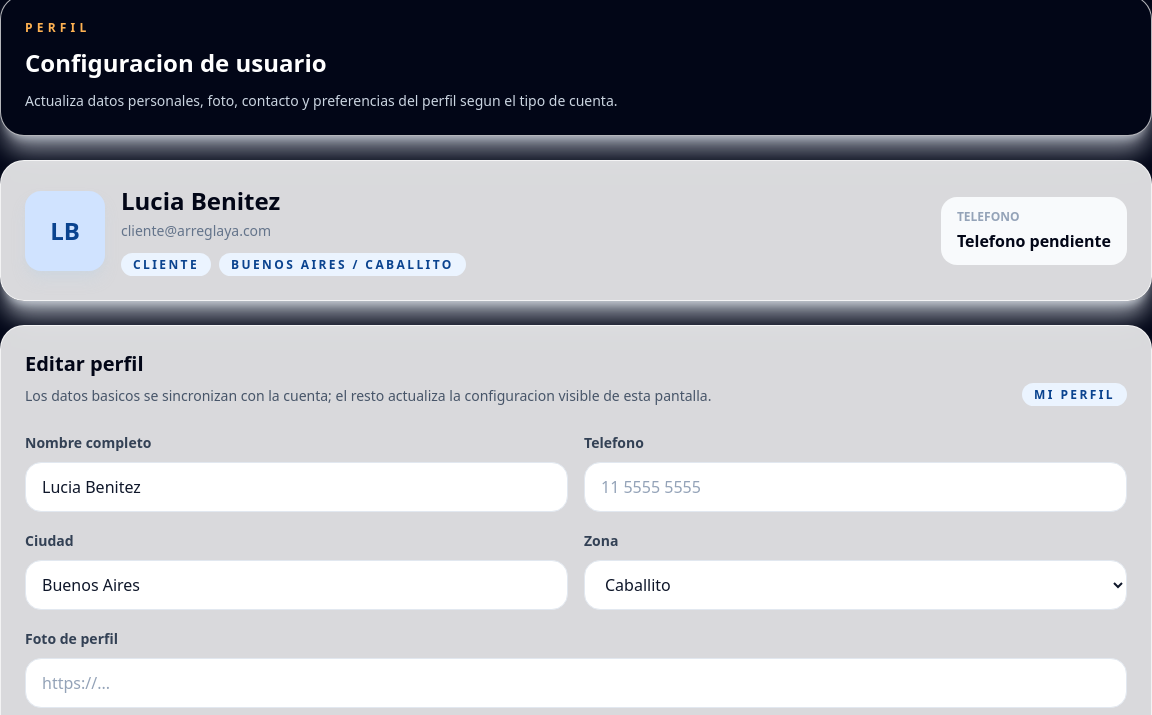
Test: ProfilePage › muestra validaciones cuando faltan campos obligatorios
Clear the field labelled "Nombre completo". click: (296, 487)
box: x1=25 y1=462 x2=568 y2=512
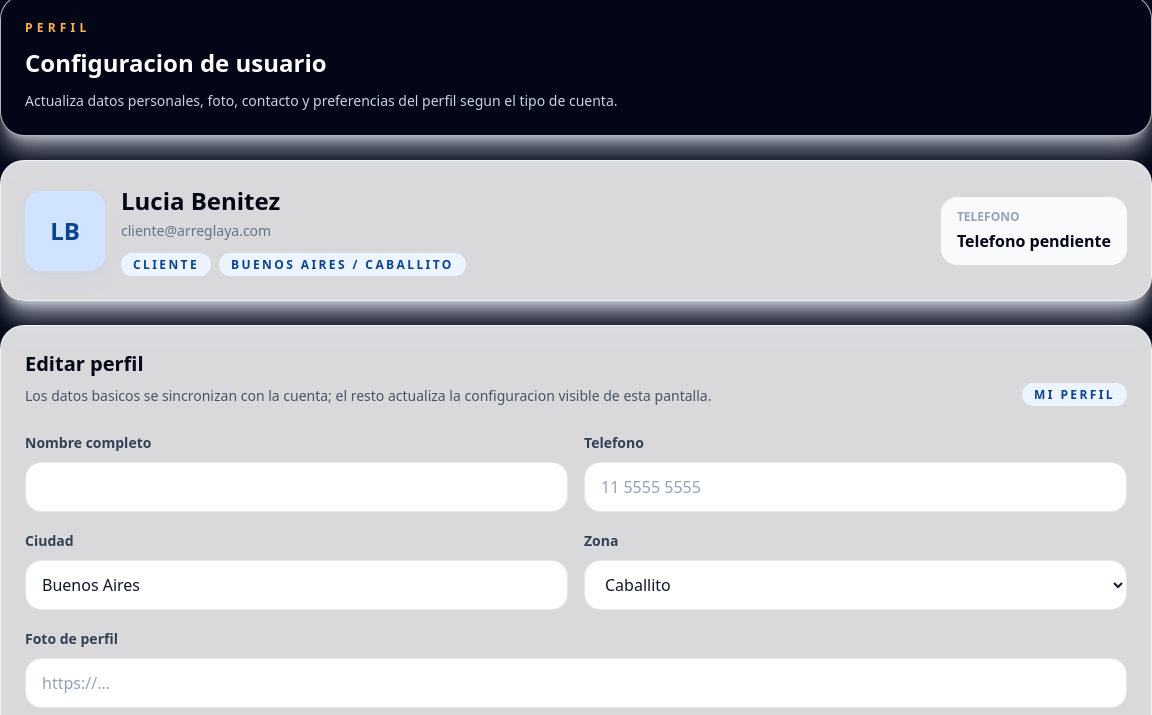
Clear the field labelled "Telefono". click: (856, 487)
box: x1=584 y1=462 x2=1127 y2=512
(page scrolled)
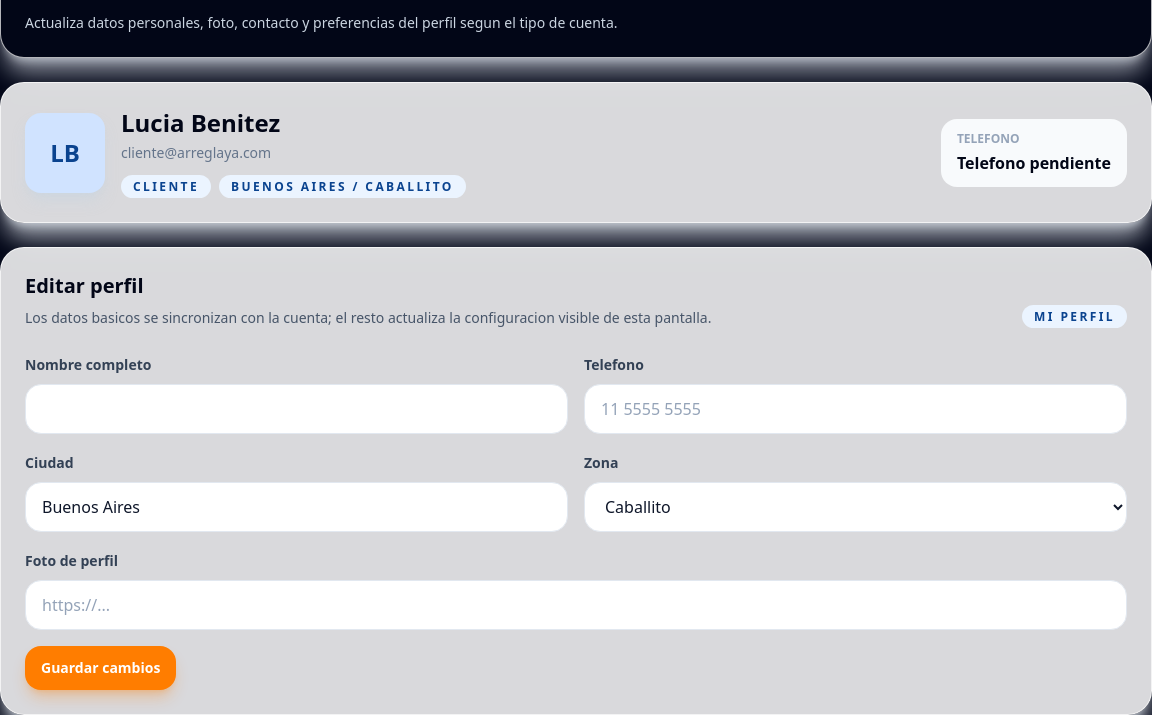
Click the button "Guardar cambios". click: (101, 668)
box: x1=25 y1=646 x2=176 y2=690
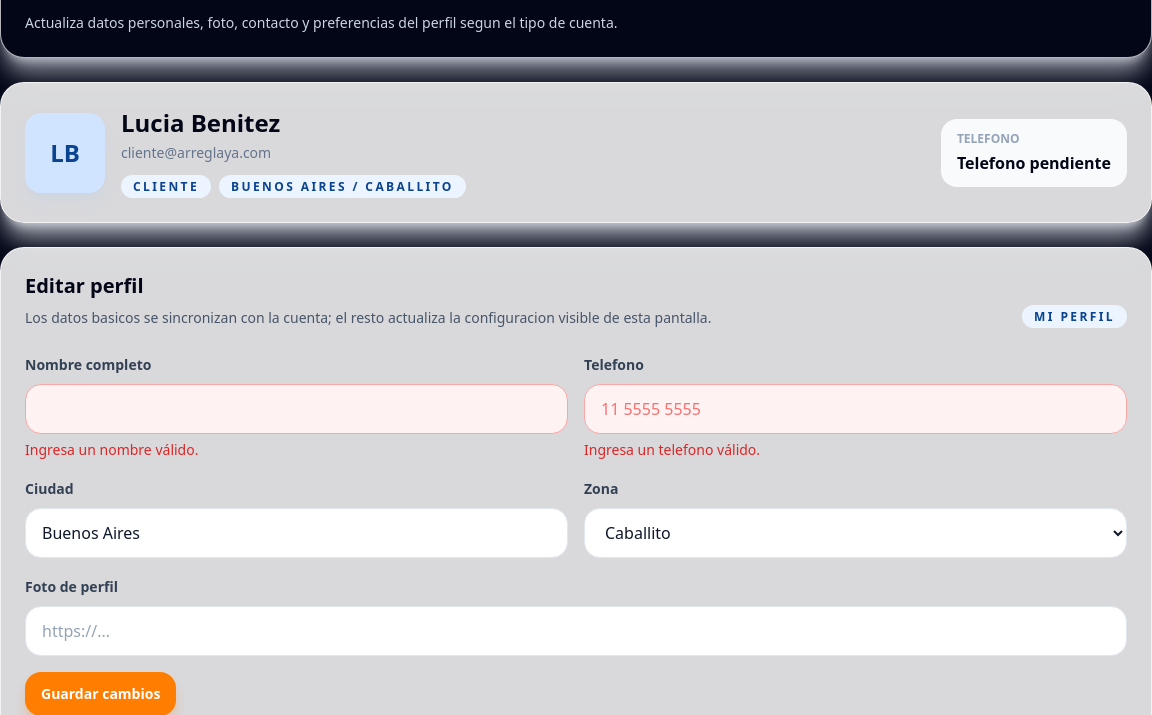
Result: the text "Ingresa un nombre válido." is shown at x1=25 y1=440 x2=198 y2=459
Result: the text "Ingresa un telefono válido." is shown at x1=584 y1=440 x2=760 y2=459
